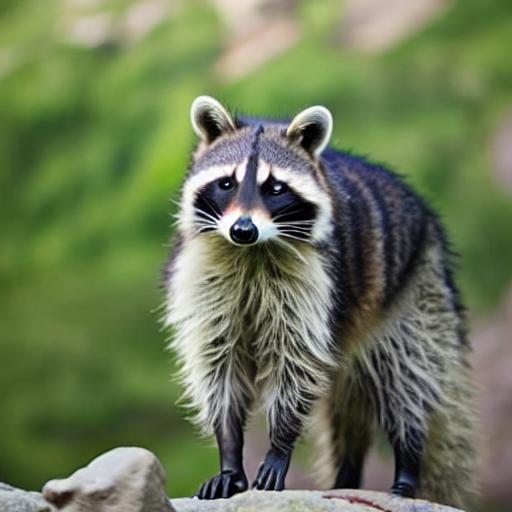raccoon: (155, 84, 512, 449)
